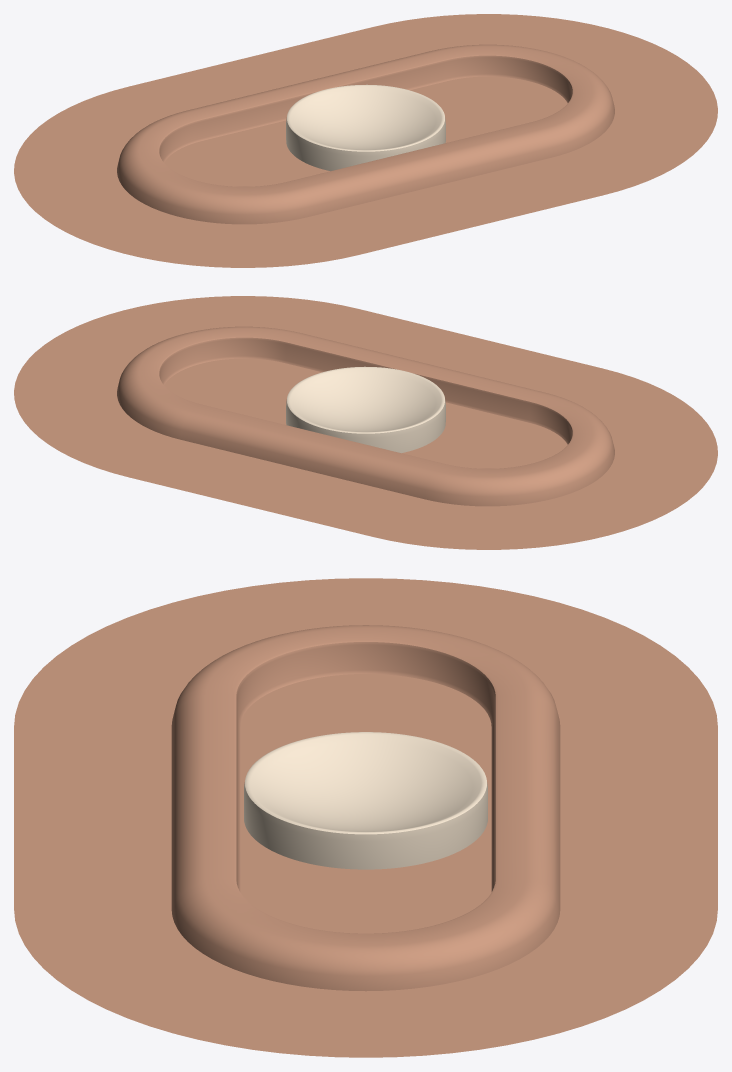
Rendered from switch.glb.
The picture shows the model from 3 angles, top to bottom: view 1: azimuth 30°, elevation 25°; view 2: azimuth 150°, elevation 25°; view 3: azimuth 270°, elevation 25°; orthographic projection. The views are drawn at different scales.
Visible parts, largest first — view 1: Base, Knob; view 2: Base, Knob; view 3: Base, Knob.
Boxes of the visible parts, x1=… form: Base: x1=14, y1=14, x2=717, y2=267; Knob: x1=286, y1=84, x2=445, y2=171; Base: x1=14, y1=296, x2=717, y2=549; Knob: x1=286, y1=366, x2=445, y2=453; Base: x1=14, y1=578, x2=717, y2=1057; Knob: x1=244, y1=732, x2=487, y2=869.
Bounding box in the file's own units: 4.32 × 0.15 × 2.68.
